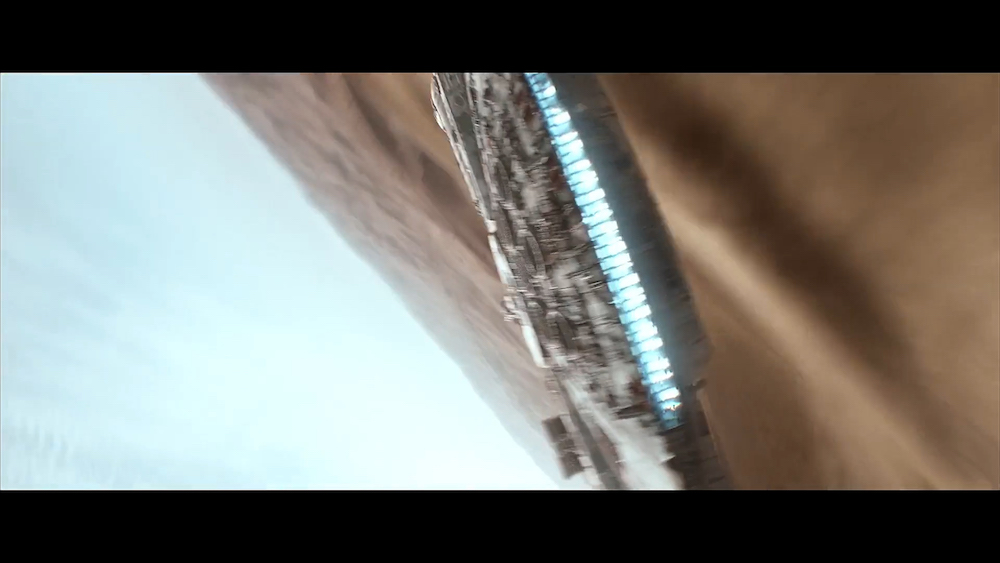Millennium Falcon: (429, 73, 736, 491)
